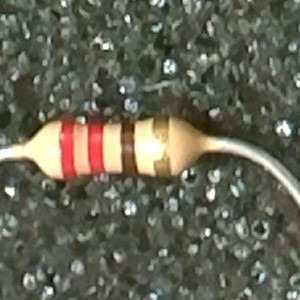brown_band: (118, 118, 140, 178)
gold_band: (150, 113, 174, 180)
red_band: (56, 116, 79, 183), (84, 120, 107, 178)
